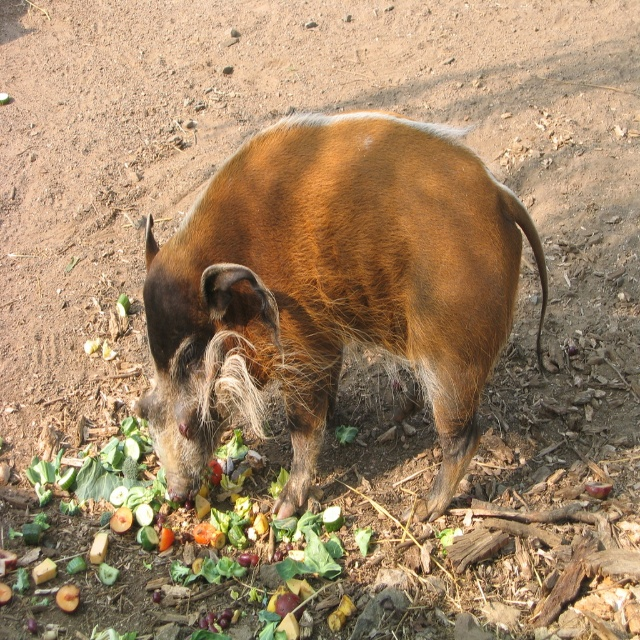Pig: (133, 108, 561, 523)
